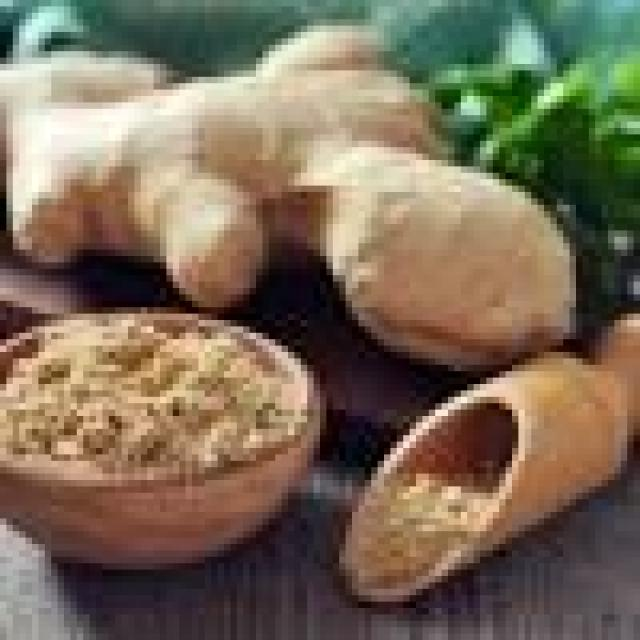ginger: (0, 7, 602, 346)
